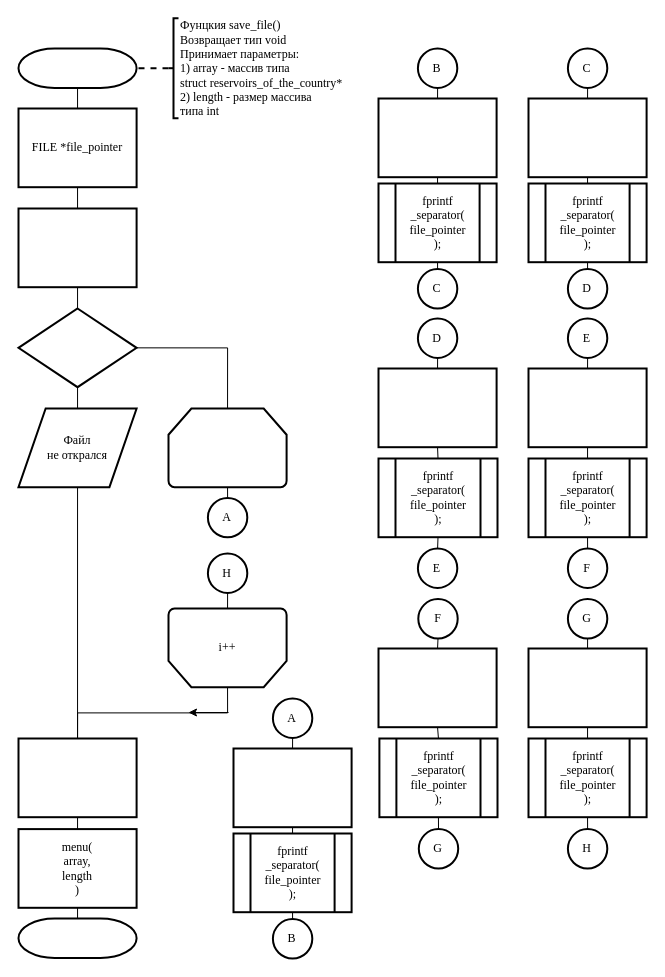
The diagram is 665 pixels wide and 977 high, and some of its shapes have lost their labels. The shapes that lost their labels are listed below. From the top down, each one's centre as x and y in pixels, then its label:
[77,67]: void save_file()
[437,137]: fprintf( file_pointer, "%s", array[i].name );
[587,137]: fprintf( file_pointer, "%ld", array[i].length );
[77,247]: file_pointer = fopen( "data.tsv", "w" )
[77,347]: file_pointer = NULL
[437,407]: fprintf( file_pointer, "%ld", array[i].width );
[587,407]: fprintf( file_pointer, "%ld", array[i].depth );
[227,447]: int i = 0 i < length
[437,687]: fprintf( file_pointer, "%ld", array[i].volume );
[587,687]: fprintf( file_pointer, "%d", array[i].water_type );
[77,777]: fclose( file_pointer )
[292,787]: fprintf( file_pointer, "%d", array[i].name_size );
[77,937]: Конец
